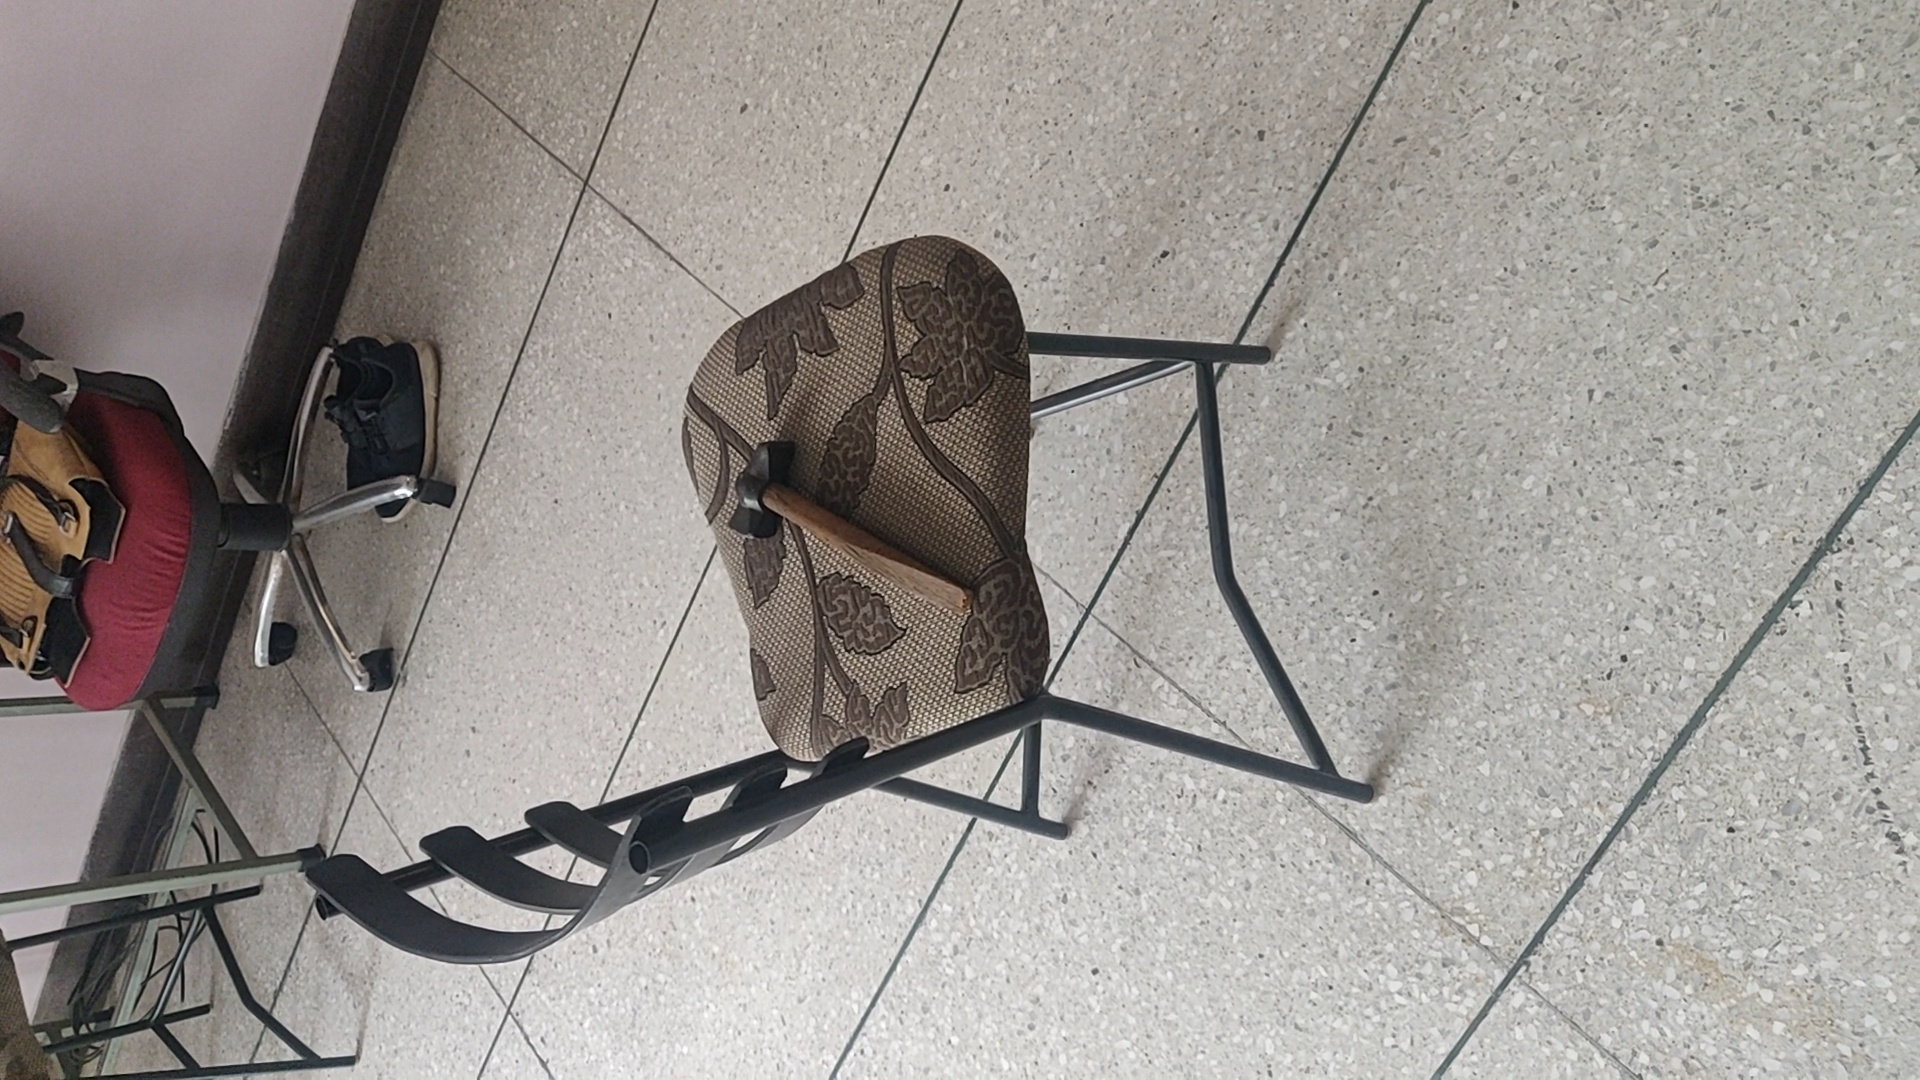hammer: (727, 439, 975, 622)
